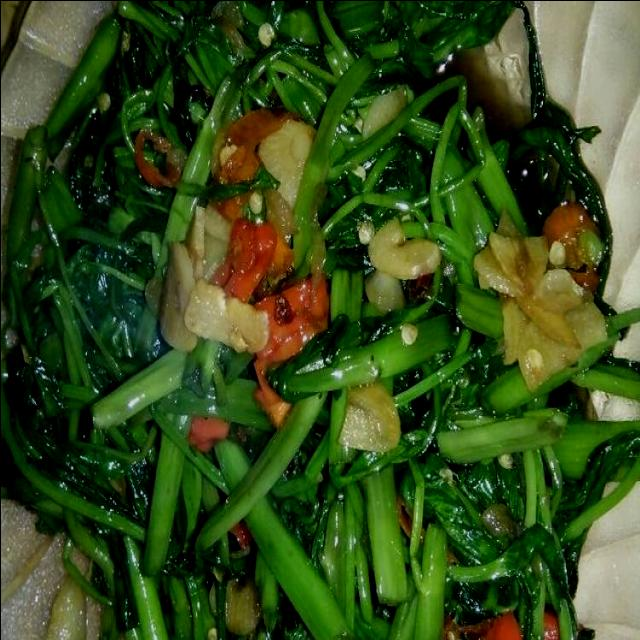tumis kangkung: (0, 0, 640, 640)
